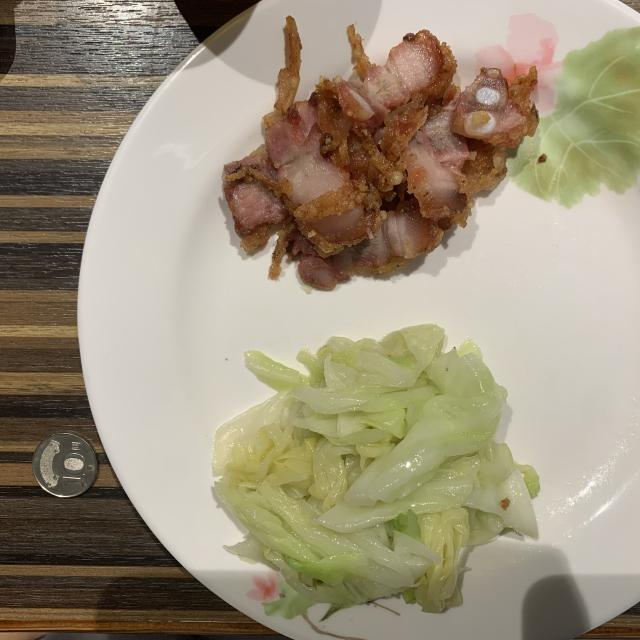cabbage: (212, 325, 539, 618)
coin: (32, 432, 98, 498)
red grilled pork: (222, 18, 539, 290)
